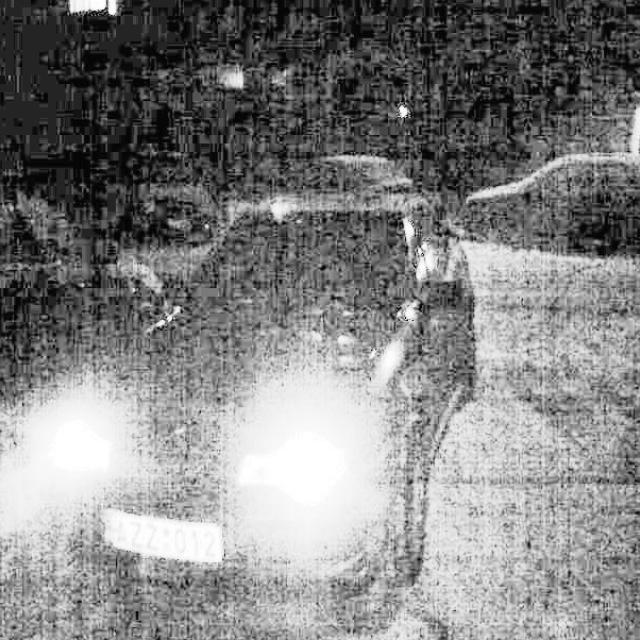Car: (0, 120, 489, 636)
